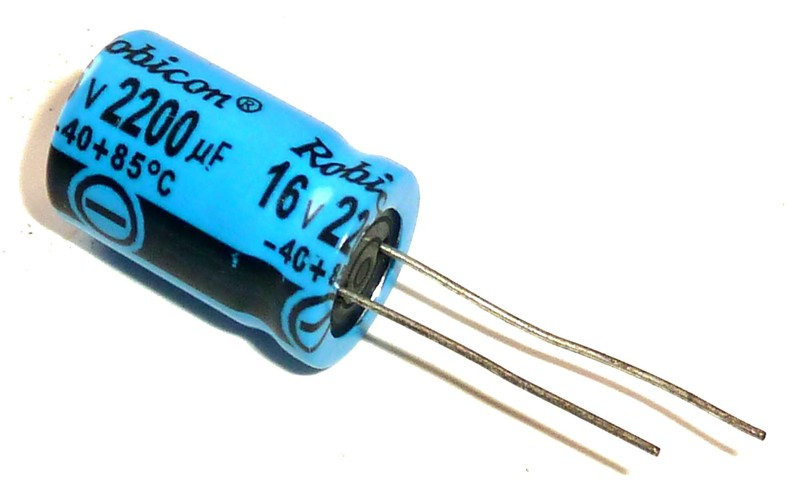Capacitor: (34, 16, 788, 469)
